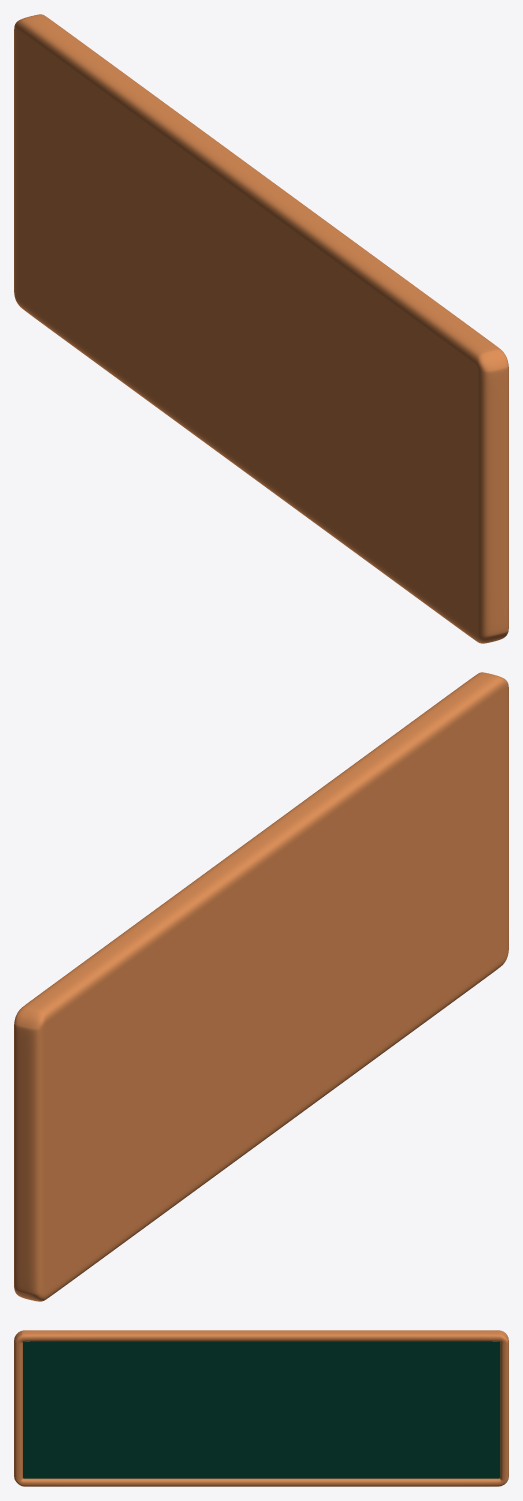
The model's file is chalkboard.fbx.
The picture shows the model from 3 angles, top to bottom: view 1: azimuth 30°, elevation 25°; view 2: azimuth 150°, elevation 25°; view 3: azimuth 270°, elevation 25°; orthographic projection. The views are drawn at different scales.
Visible parts, largest first — view 1: Cube.006; view 2: Cube.006; view 3: Cube.008, Cube.006.
Part boxes in pixels (x1=…): Cube.006: x1=14, y1=14, x2=508, y2=643; Cube.006: x1=14, y1=672, x2=508, y2=1301; Cube.008: x1=23, y1=1341, x2=500, y2=1478; Cube.006: x1=14, y1=1330, x2=508, y2=1486.
Size of the model in its own units: 86.24 by 870 by 2557.
